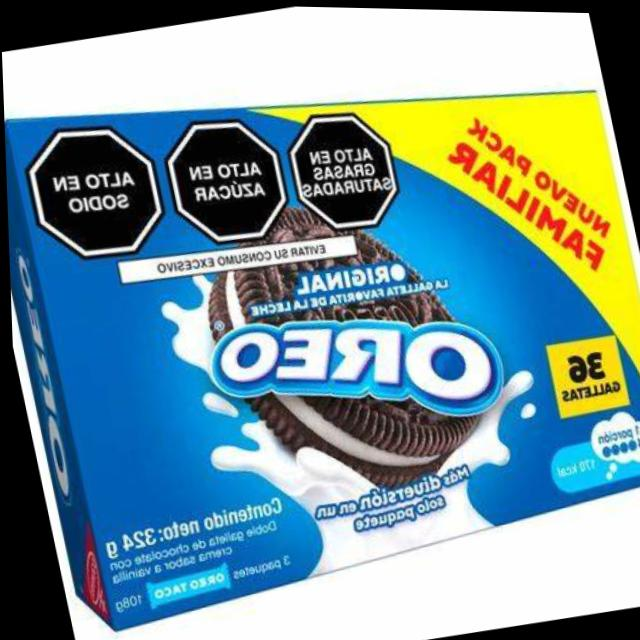Caja: (2, 54, 640, 640)
